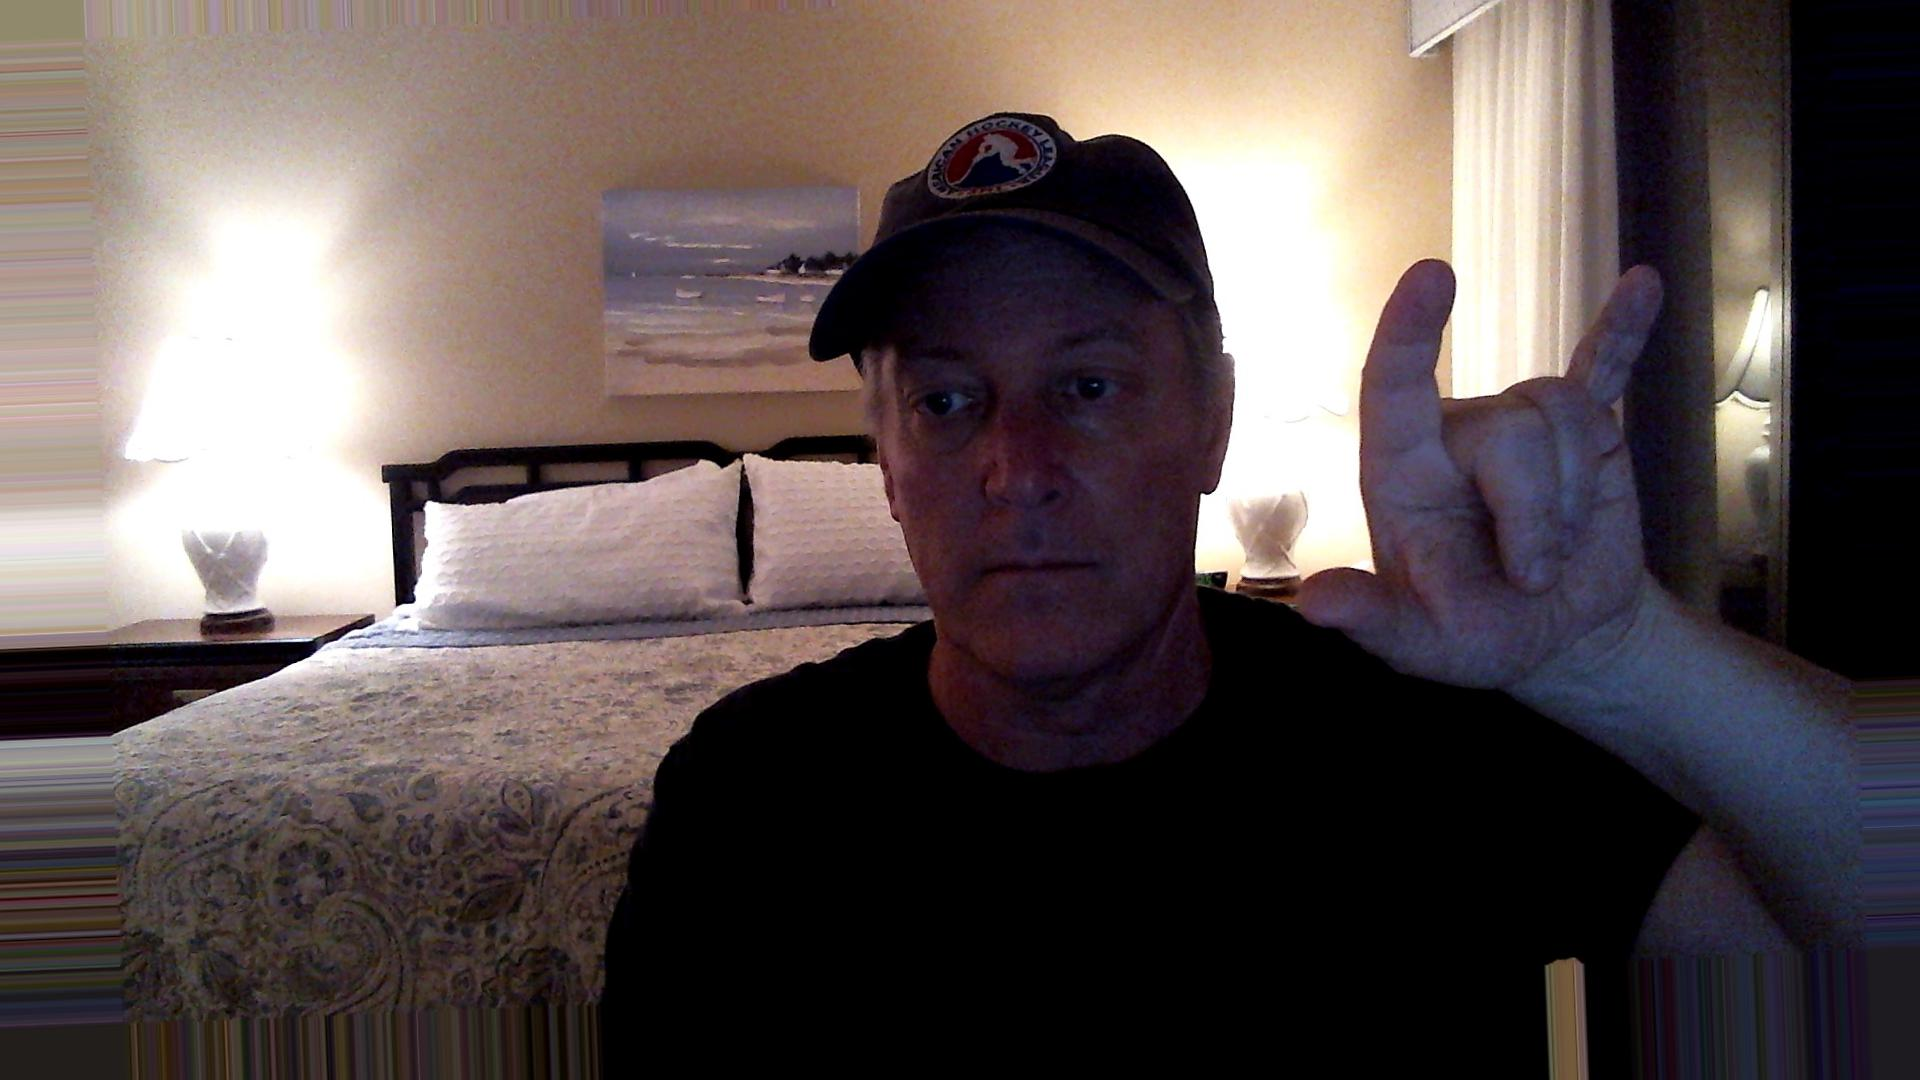I Love You: (1276, 229, 1702, 713)
